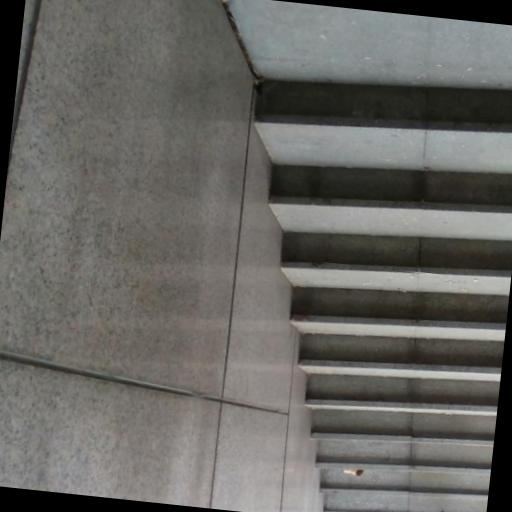stairs: (256, 81, 511, 511)
